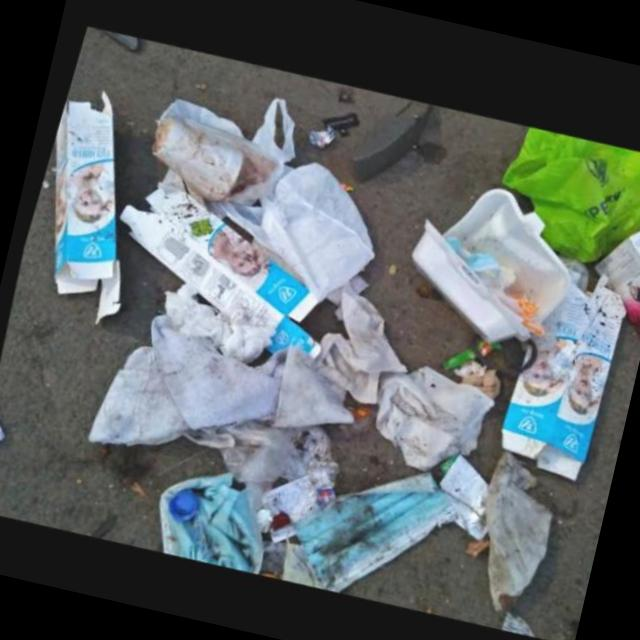carton: (114, 165, 313, 349), (499, 266, 622, 475), (47, 86, 121, 321), (587, 218, 640, 333)
khau_trang: (284, 464, 456, 588)
tui_ni_long: (496, 118, 640, 256), (147, 93, 292, 207)
xop: (406, 175, 565, 335)
